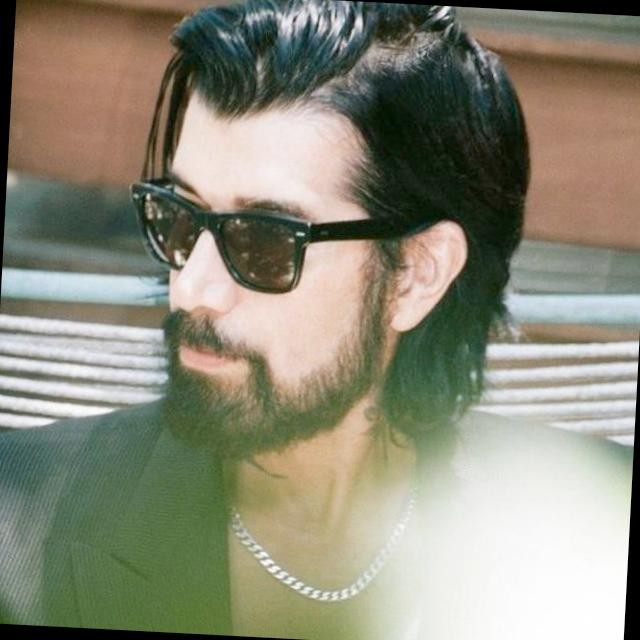glasses: (127, 178, 401, 302)
